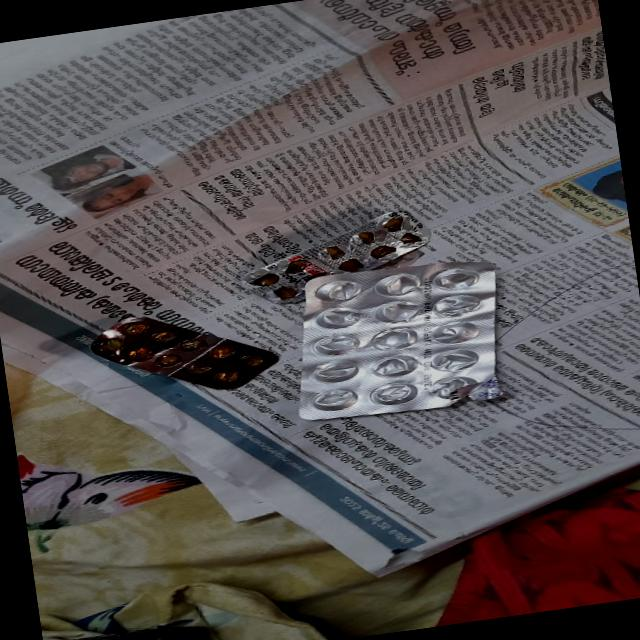Blister_Packs - Non Recyclable: (276, 248, 519, 428)
